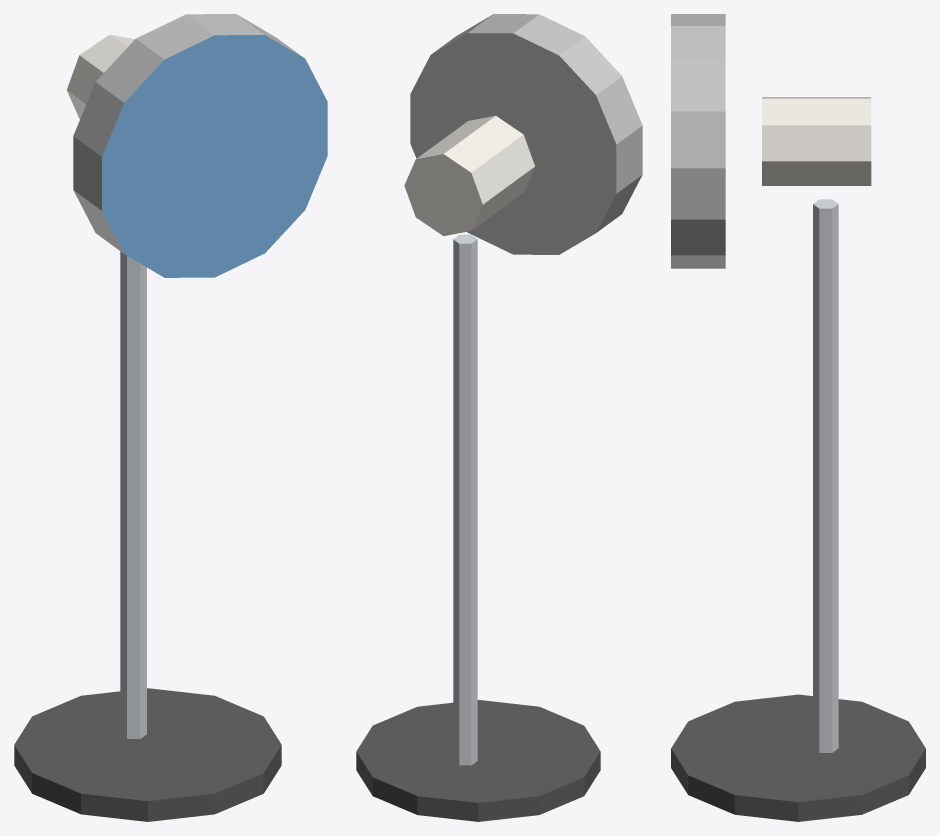
Rendered from FUR_StandingFan.fbx.
3 renders of one model, left to right at view 1: azimuth 30°, elevation 25°; view 2: azimuth 150°, elevation 25°; view 3: azimuth 270°, elevation 25°, orthographic. The views are drawn at different scales.
Visible parts, largest first — view 1: FUR_StandingFan; view 2: FUR_StandingFan; view 3: FUR_StandingFan.
Boxes of the visible parts, x1,y1,x2,y2 form: FUR_StandingFan: [14, 14, 327, 821]; FUR_StandingFan: [356, 14, 642, 821]; FUR_StandingFan: [671, 14, 925, 821].
Bounding box in the file's own units: 1.4 × 4.5 × 1.4.
